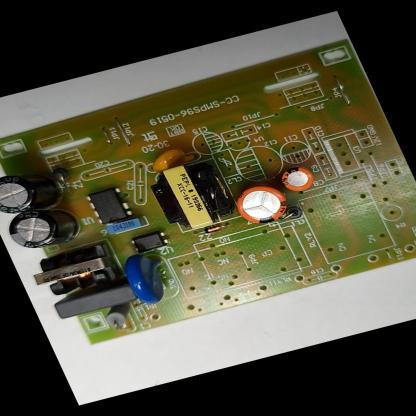Cap1: (228, 179, 296, 229)
Cap2: (278, 163, 320, 194)
Cap3: (1, 202, 86, 254)
Cap4: (0, 164, 69, 219)
MOSFET: (84, 184, 135, 225)
Mov: (117, 248, 183, 309)
Resistor: (102, 301, 142, 331)
Transformer: (145, 158, 241, 235), (26, 242, 124, 300)
